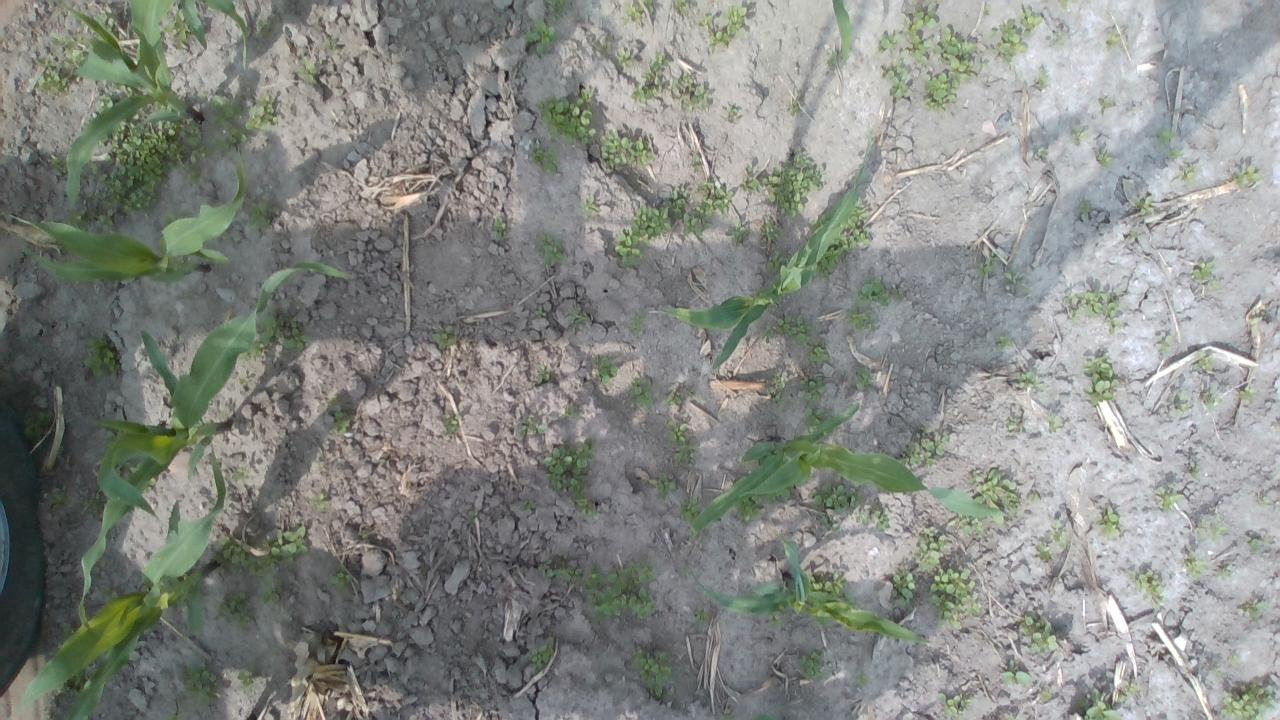Maize: (75, 257, 357, 637), (15, 446, 226, 720), (655, 135, 872, 371), (686, 402, 1006, 530), (67, 0, 256, 216), (0, 150, 245, 283), (690, 535, 934, 653), (752, 0, 857, 67)
Weeds: (82, 99, 208, 213), (614, 184, 684, 272), (542, 437, 600, 518), (923, 26, 977, 112), (584, 560, 658, 620), (760, 152, 824, 218), (534, 85, 596, 146), (34, 31, 90, 98), (926, 567, 980, 629), (969, 468, 1019, 526), (814, 227, 871, 277), (250, 525, 308, 574), (810, 482, 864, 534), (1062, 288, 1123, 334), (683, 182, 732, 238), (901, 0, 940, 67), (896, 426, 952, 468), (1218, 682, 1279, 720), (256, 309, 312, 350), (599, 132, 661, 169), (208, 93, 248, 150), (630, 646, 672, 700), (699, 6, 750, 50), (80, 330, 124, 378), (1080, 352, 1119, 406), (178, 661, 222, 708), (986, 18, 1028, 65), (630, 53, 670, 101), (1126, 568, 1168, 612), (1020, 612, 1058, 656), (852, 276, 904, 308), (670, 72, 710, 112), (216, 590, 253, 630), (909, 530, 945, 570), (1076, 688, 1121, 720), (666, 419, 697, 465), (209, 536, 248, 571), (773, 312, 812, 346), (880, 59, 913, 99), (524, 19, 556, 57), (999, 660, 1037, 691), (534, 231, 566, 266), (805, 571, 847, 597), (256, 576, 288, 610), (164, 8, 194, 44), (891, 568, 918, 608), (646, 470, 680, 501), (245, 98, 276, 132), (1094, 502, 1121, 540), (55, 666, 87, 698), (796, 650, 828, 682), (529, 142, 559, 174), (734, 494, 766, 524), (1192, 258, 1221, 291), (948, 511, 986, 536), (619, 0, 655, 26), (528, 636, 554, 672), (1180, 550, 1210, 581), (803, 406, 832, 438), (764, 371, 789, 408), (626, 375, 654, 408), (844, 306, 879, 332), (1154, 482, 1184, 512), (1234, 160, 1264, 190), (23, 410, 54, 439), (1044, 518, 1070, 552), (1195, 514, 1229, 540), (329, 562, 355, 594), (935, 690, 969, 714), (94, 426, 116, 463), (799, 373, 826, 403), (246, 200, 274, 228), (1236, 597, 1268, 621), (842, 198, 869, 226), (1017, 5, 1042, 35), (738, 164, 763, 194), (62, 207, 94, 230), (868, 502, 894, 530), (977, 250, 1001, 280), (294, 57, 320, 84), (1199, 383, 1222, 413), (1168, 388, 1190, 419), (676, 496, 702, 522), (518, 414, 546, 438), (1014, 371, 1045, 392), (1004, 271, 1030, 296), (431, 324, 456, 350), (236, 662, 257, 692), (726, 217, 750, 243), (764, 249, 789, 273), (439, 410, 462, 436), (851, 365, 874, 391), (564, 303, 591, 325), (1068, 122, 1092, 146), (624, 309, 647, 334), (328, 411, 353, 434), (1176, 162, 1199, 187), (1044, 29, 1070, 51), (1104, 24, 1124, 52), (758, 219, 782, 242), (1190, 350, 1214, 373), (596, 358, 618, 383), (544, 0, 573, 18), (490, 215, 510, 241), (876, 32, 899, 54), (46, 152, 69, 174), (807, 340, 830, 362), (1094, 144, 1116, 167), (308, 492, 332, 513), (1152, 334, 1176, 355), (1132, 194, 1154, 216), (97, 209, 116, 234), (1156, 127, 1178, 148), (614, 47, 634, 70), (82, 492, 101, 516), (766, 485, 792, 502), (580, 195, 600, 217), (692, 604, 712, 626), (554, 567, 583, 582), (992, 332, 1013, 352), (254, 18, 275, 38), (94, 11, 114, 32), (240, 341, 262, 360), (808, 210, 831, 228), (1118, 684, 1141, 702), (1044, 413, 1064, 433), (1077, 198, 1094, 221), (96, 93, 116, 112), (1098, 94, 1115, 116), (49, 491, 72, 507), (1039, 685, 1058, 704), (825, 50, 845, 68), (1006, 415, 1024, 435), (1238, 385, 1256, 404), (1035, 541, 1051, 562), (100, 584, 118, 602), (534, 364, 550, 384), (538, 558, 554, 578), (1243, 534, 1263, 550), (1166, 146, 1186, 162), (112, 82, 134, 96), (1032, 141, 1050, 158), (230, 464, 249, 480), (1186, 460, 1202, 479), (662, 393, 682, 408), (810, 617, 833, 630), (677, 560, 693, 578), (671, 0, 690, 15), (116, 461, 134, 476), (1216, 564, 1234, 579), (1036, 66, 1048, 88), (786, 99, 802, 115), (562, 403, 578, 419), (854, 670, 870, 686), (690, 154, 704, 172), (60, 620, 74, 638), (1126, 226, 1142, 241), (466, 508, 480, 525), (726, 102, 739, 120), (594, 39, 612, 52), (768, 613, 784, 626), (1228, 653, 1244, 666), (1210, 666, 1226, 679), (162, 710, 182, 720), (1055, 0, 1080, 8), (162, 210, 176, 224), (1258, 494, 1272, 508), (844, 592, 856, 608), (762, 325, 774, 341), (325, 395, 339, 408), (532, 307, 547, 319), (323, 38, 338, 50), (220, 231, 233, 244), (521, 500, 535, 512), (146, 476, 156, 492), (982, 2, 993, 16), (238, 373, 250, 385), (721, 709, 734, 720), (42, 706, 52, 720), (1028, 492, 1042, 502), (688, 387, 696, 396), (0, 32, 8, 40), (1008, 716, 1017, 720)
